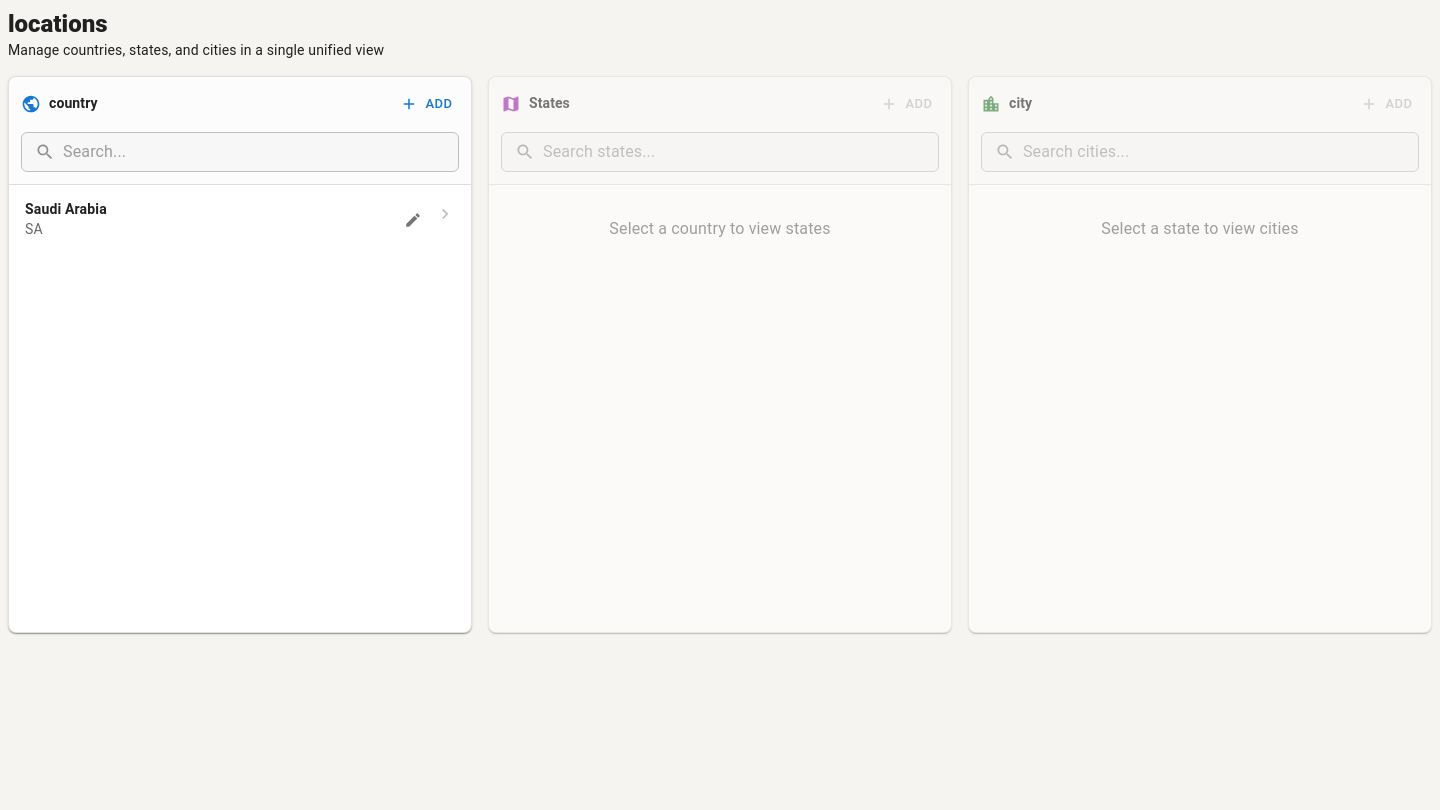
Test: Setup › Locations, when a dependent read fails › does not tell the operator a country has no states when the states read failed
Click the text "Saudi Arabia": {"x": 66, "y": 209} [25,201,107,217]
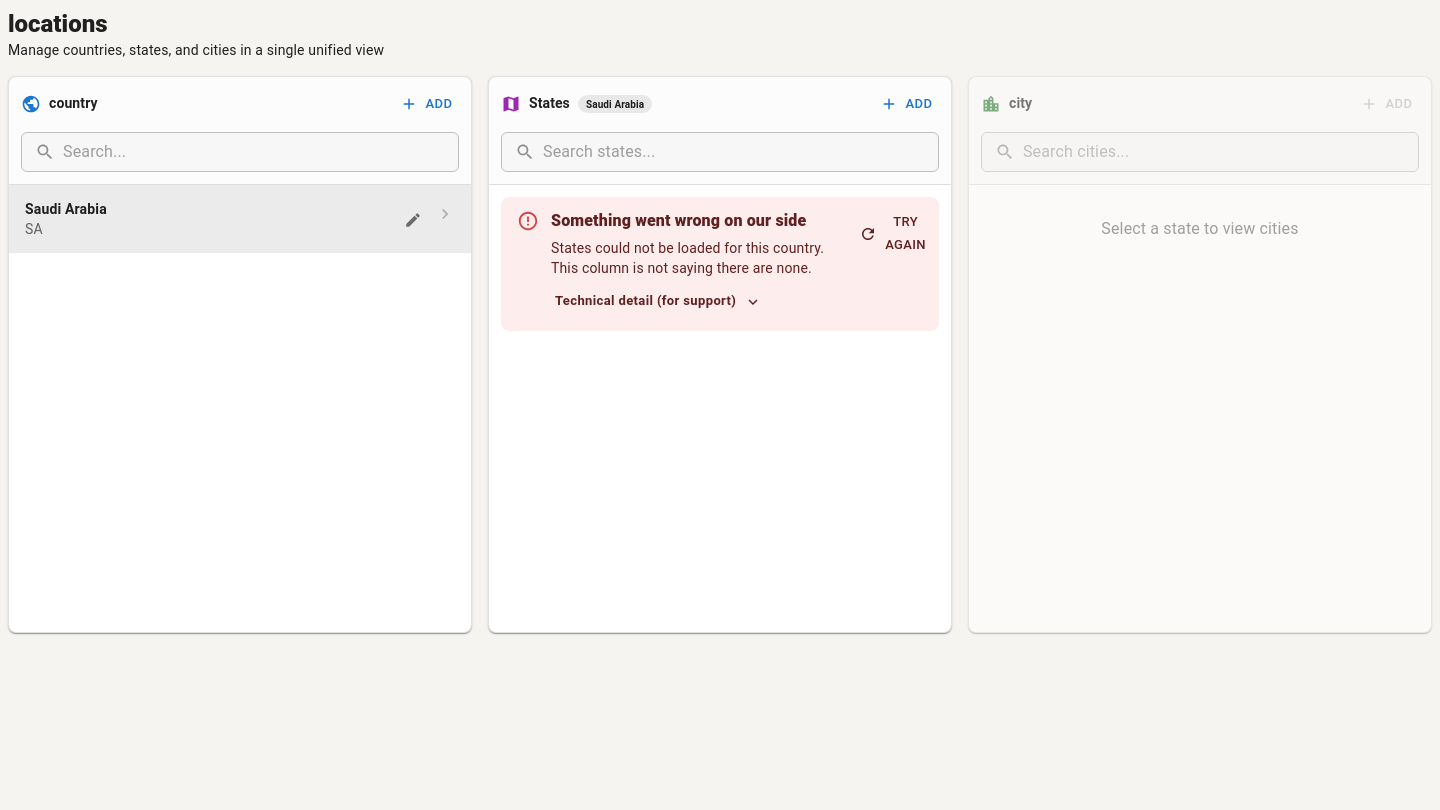
Now the text "States could not be loaded" is shown, box [551,240,824,276]
